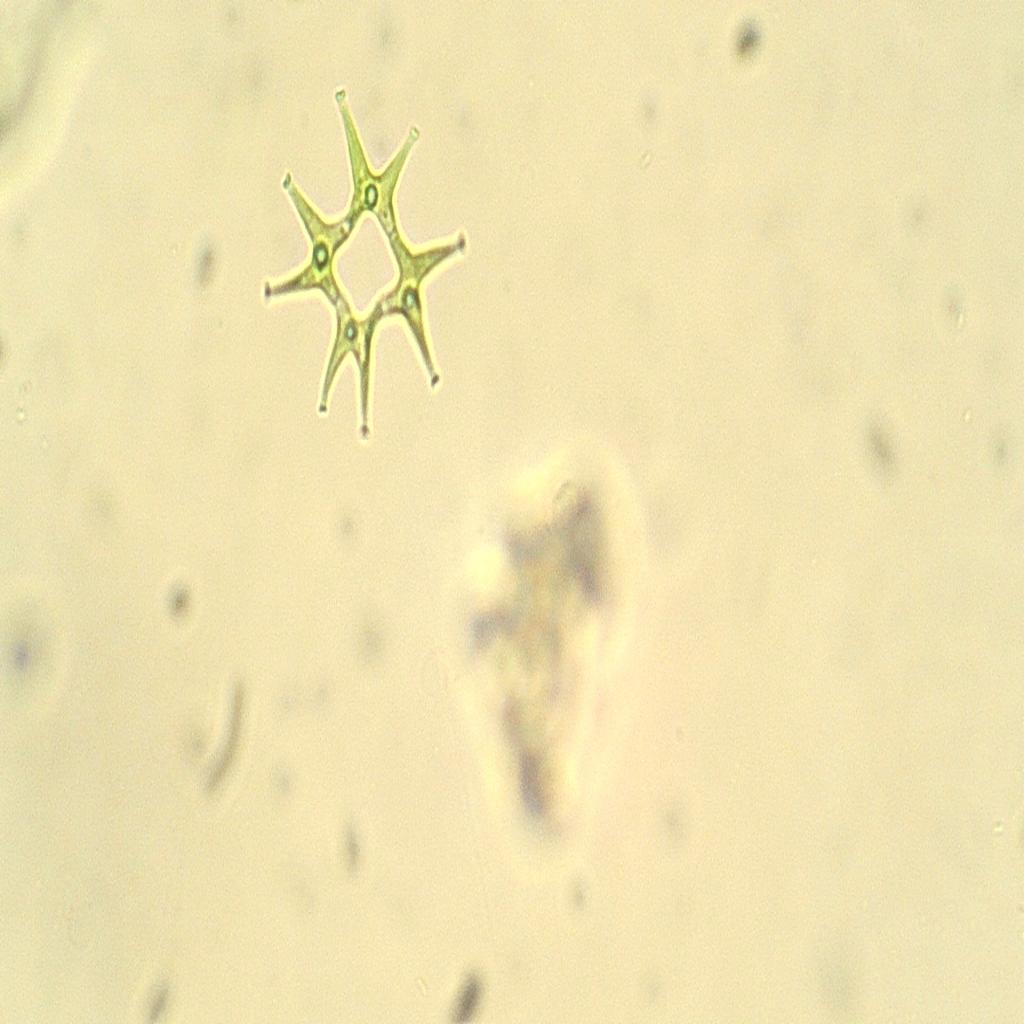Pediastrum_10: (256, 80, 476, 450)
